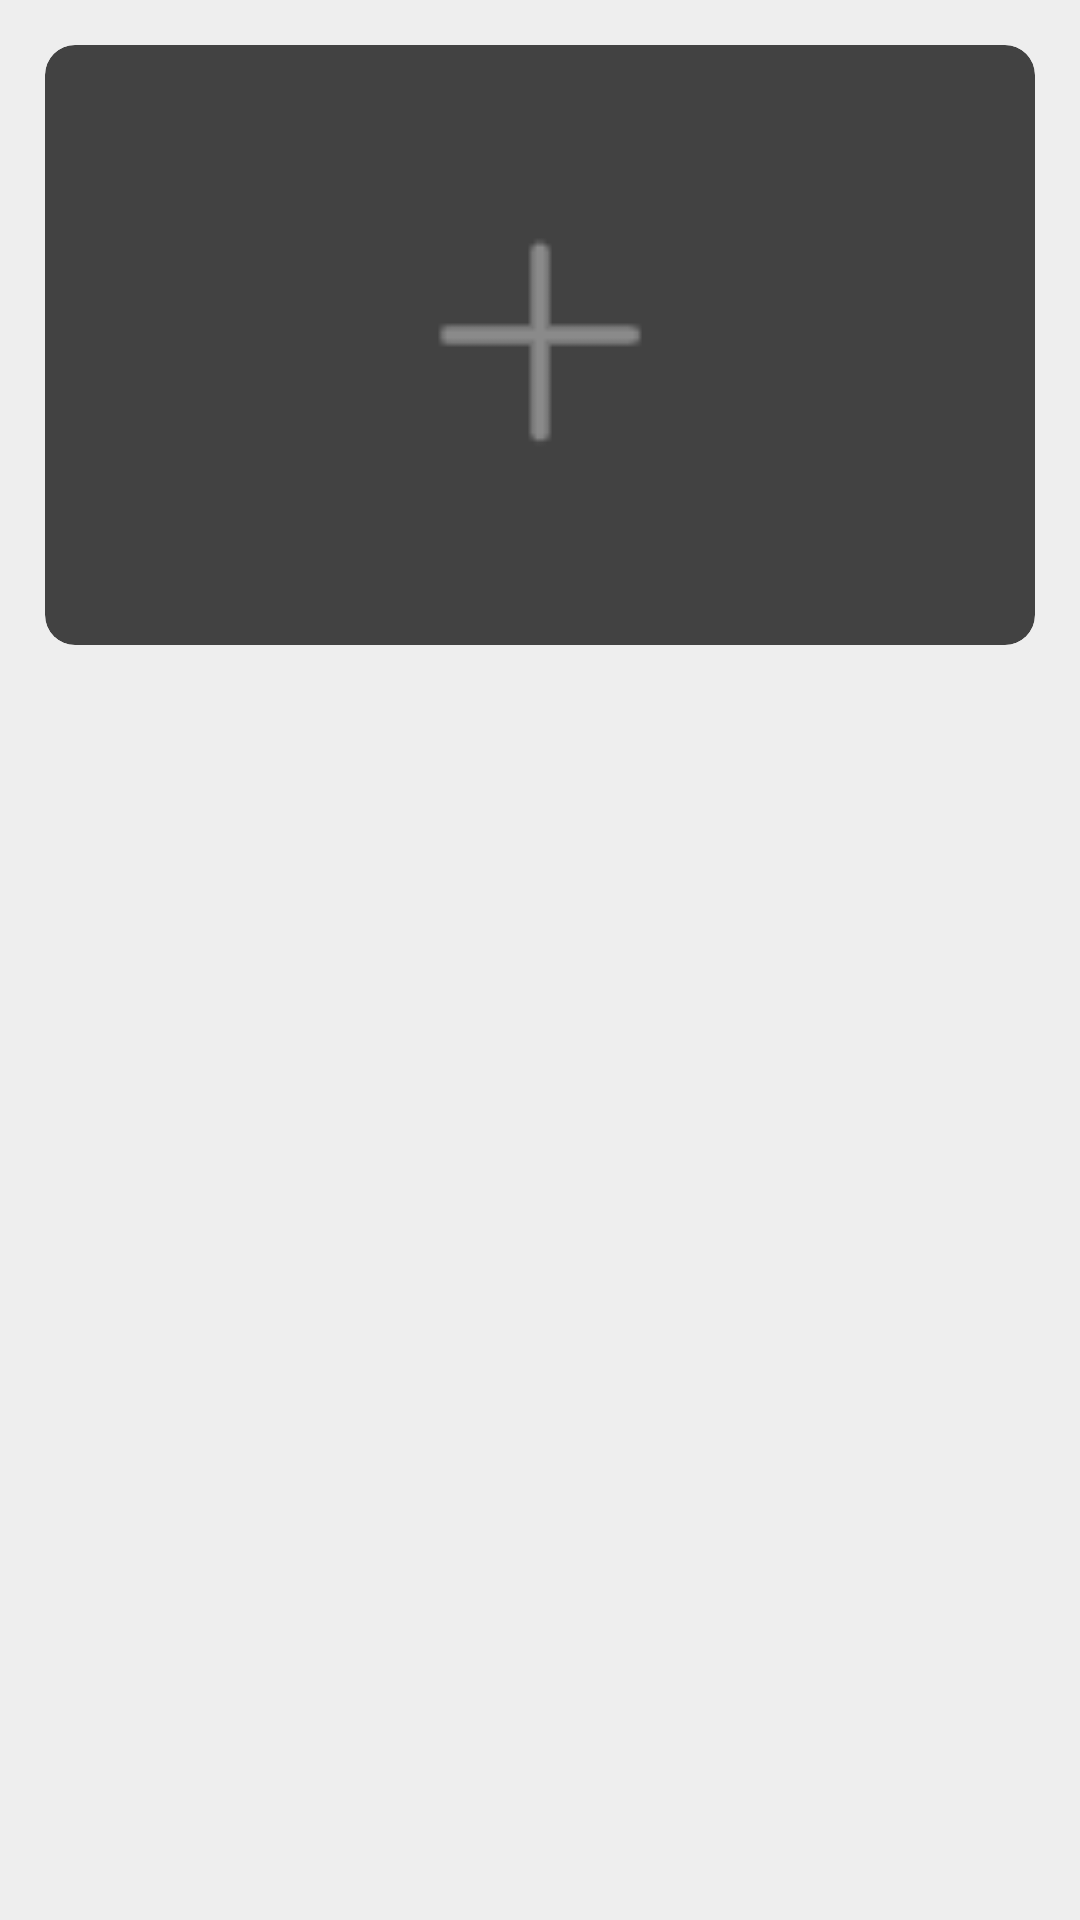

Named icons in this screenshot (1080w x 1920h) and their centers, [x,y]:
add: [540,342]
